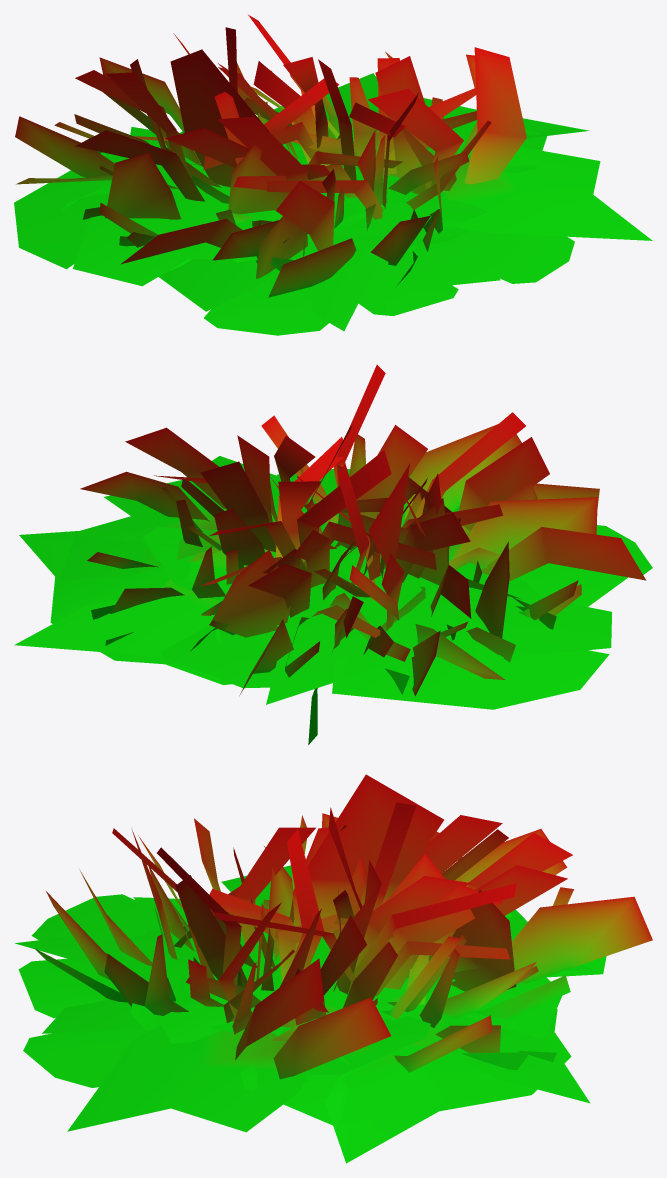
The model's file is Var17_LOD3.fbx.
3 renders of one model, top to bottom at view 1: azimuth 30°, elevation 25°; view 2: azimuth 150°, elevation 25°; view 3: azimuth 270°, elevation 25°, orthographic. The views are drawn at different scales.
Parts seen in each view (by area): view 1: _jijk_Var17_LOD3; view 2: _jijk_Var17_LOD3; view 3: _jijk_Var17_LOD3.
Boxes of the visible parts, box(x1,y1,x2,y2) form: _jijk_Var17_LOD3: box(14, 14, 652, 335); _jijk_Var17_LOD3: box(14, 365, 652, 744); _jijk_Var17_LOD3: box(15, 774, 652, 1163).
Bounding box in the file's own units: 88.55 × 28.86 × 80.52.
